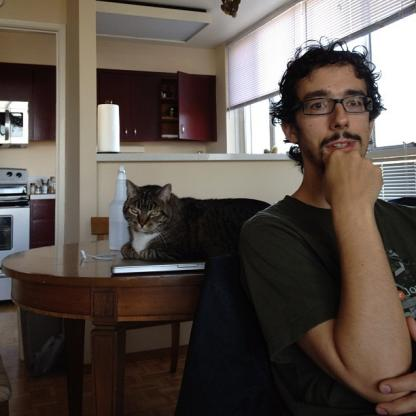Target: (120, 180, 278, 270)
